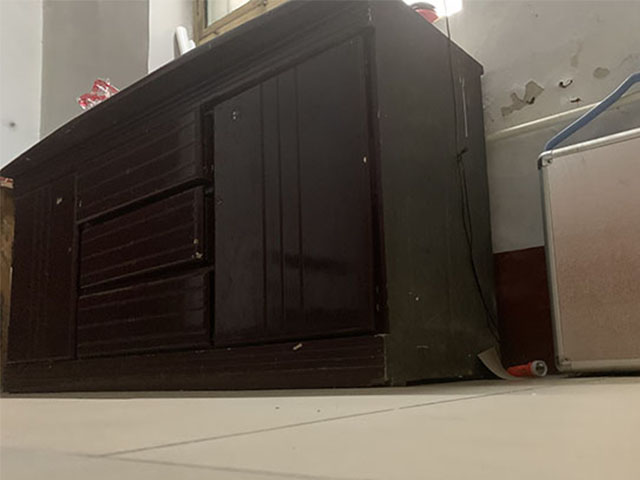cabinet: (1, 1, 498, 394)
